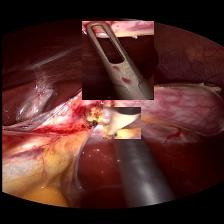Grasper: (81, 21, 153, 100)
Hook: (102, 108, 140, 140)
